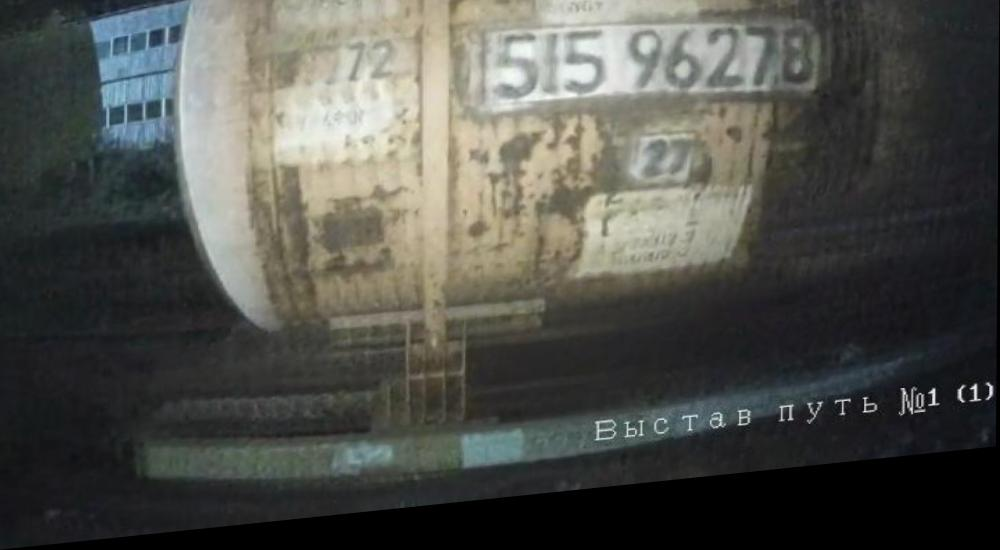Wagon-number: (484, 15, 824, 135)
